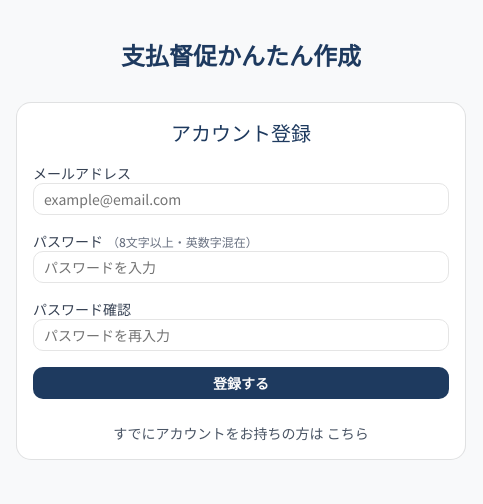
Test: RegisterPage › パスワードに英字が含まれない場合エラーが表示される
Type "test@example.com" into the field labelled "メールアドレス" at (241, 199), box 33,183 -> 449,215
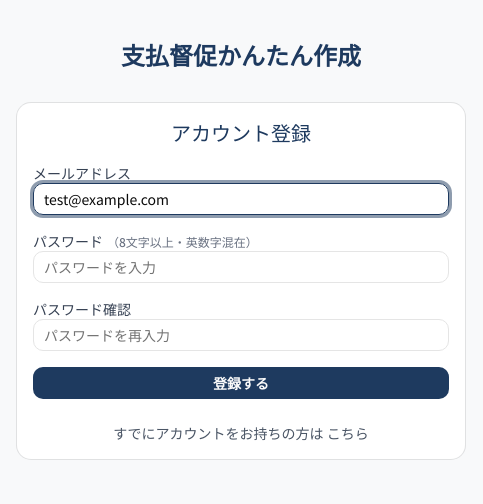
Type "12345678" into the password field with placeholder "パスワードを入力" at (241, 267), box 33,251 -> 449,283
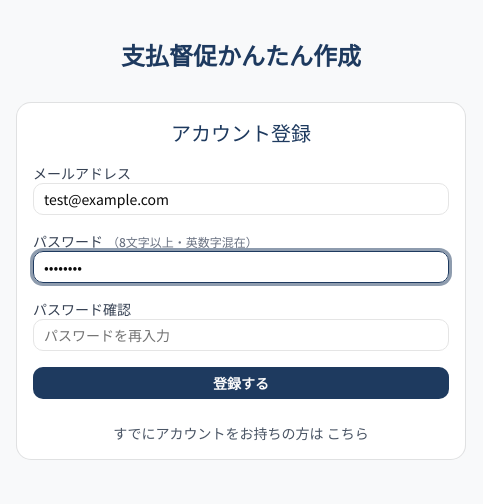
Type "12345678" into the password field with placeholder "パスワードを再入力" at (241, 335), box 33,319 -> 449,351
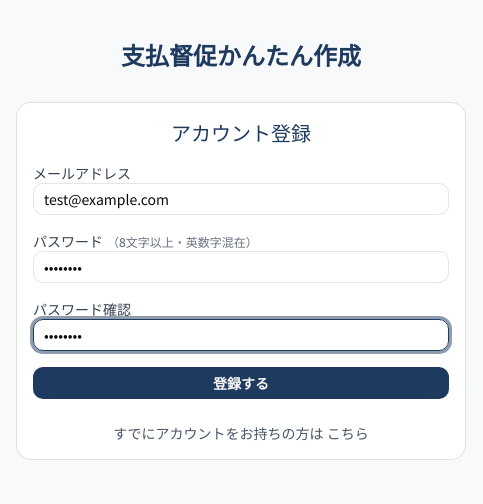
Submit the form "登録する", box 33,163 -> 449,399
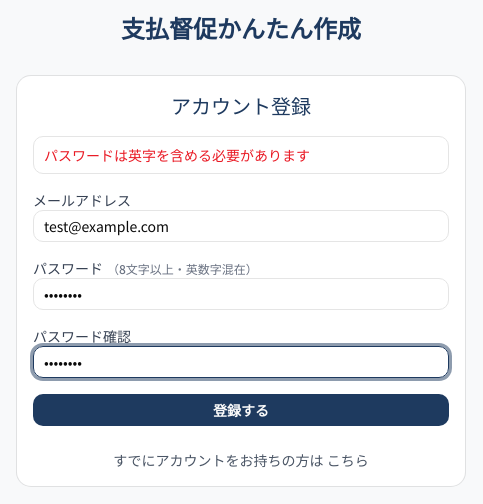
Expected: the message "パスワードは英字を含める必要があります" is shown, 33,136 -> 449,174
